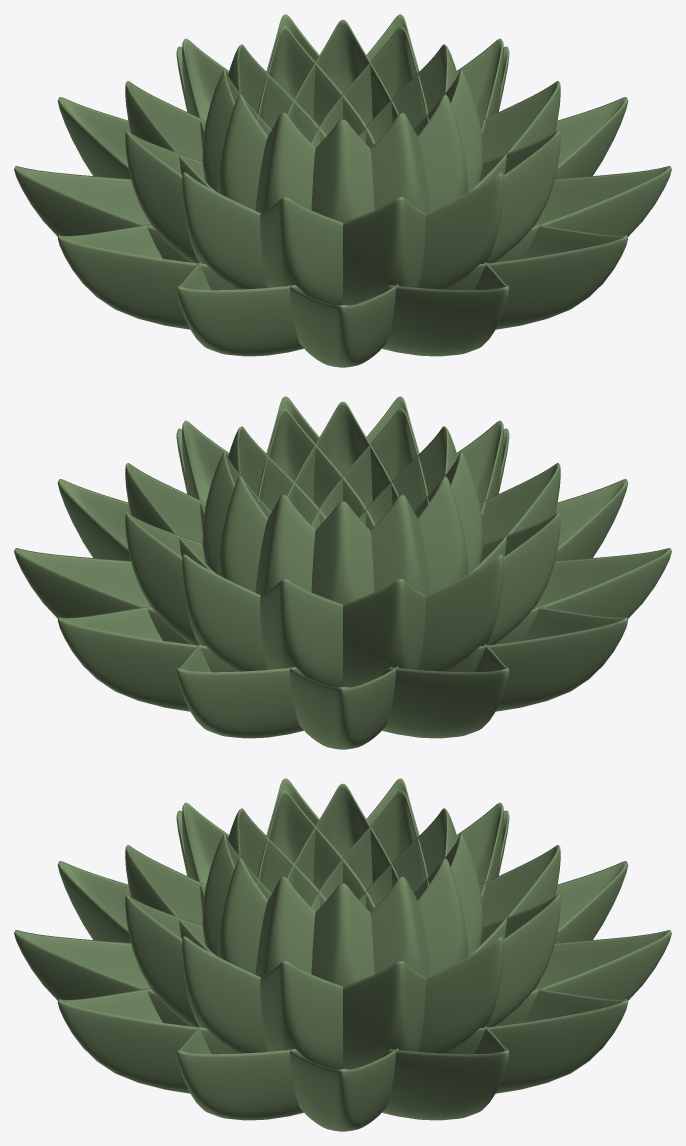
File: Scuculent.fbx
3 renders of one model, top to bottom at view 1: azimuth 30°, elevation 25°; view 2: azimuth 150°, elevation 25°; view 3: azimuth 270°, elevation 25°, orthographic.
Parts seen in each view (by area): view 1: Bottom3, Bottom7, Bottom6, Bottom4, Mid6, Mid8, Bottom2, Bottom8, Mid4, Mid7, Bottom5, Mid9 (+21 smaller); view 2: Bottom11, Bottom3, Bottom2, Bottom, Mid2, Mid1, Bottom4, Bottom10, Mid13, Mid3, Bottom1, Mid4 (+21 smaller); view 3: Bottom7, Bottom11, Bottom10, Bottom8, Mid11, Mid10, Bottom6, Bottom, Mid9, Mid12, Bottom9, Mid13 (+21 smaller).
Boxes of the visible parts, x1,y1,x2,y2 form: Bottom3: (57, 224, 238, 329); Bottom7: (447, 224, 628, 329); Bottom6: (381, 262, 509, 356); Bottom4: (176, 262, 304, 356); Mid6: (343, 196, 425, 305); Mid8: (260, 196, 342, 305); Bottom2: (14, 166, 190, 262); Bottom8: (495, 166, 671, 262); Mid4: (182, 172, 267, 289); Mid7: (418, 172, 503, 289); Bottom5: (287, 284, 398, 367); Mid9: (481, 130, 560, 263); Bottom11: (57, 606, 238, 711); Bottom3: (447, 606, 628, 711); Bottom2: (381, 644, 509, 738); Bottom: (176, 644, 304, 738); Mid2: (343, 578, 425, 687); Mid1: (260, 578, 342, 687); Bottom4: (495, 548, 671, 644); Bottom10: (14, 548, 190, 644); Mid13: (182, 554, 267, 671); Mid3: (418, 554, 503, 671); Bottom1: (287, 666, 398, 749); Mid4: (481, 512, 560, 645); Bottom7: (57, 988, 238, 1093); Bottom11: (447, 988, 628, 1093); Bottom10: (381, 1026, 509, 1120); Bottom8: (176, 1026, 304, 1120); Mid11: (343, 960, 425, 1069); Mid10: (260, 960, 342, 1069); Bottom6: (14, 930, 190, 1026); Bottom: (495, 930, 671, 1026); Mid9: (182, 936, 267, 1053); Mid12: (418, 936, 503, 1053); Bottom9: (287, 1048, 398, 1131); Mid13: (481, 894, 560, 1027).
Size of the model in its own units: 70.64 by 27.82 by 70.64.
